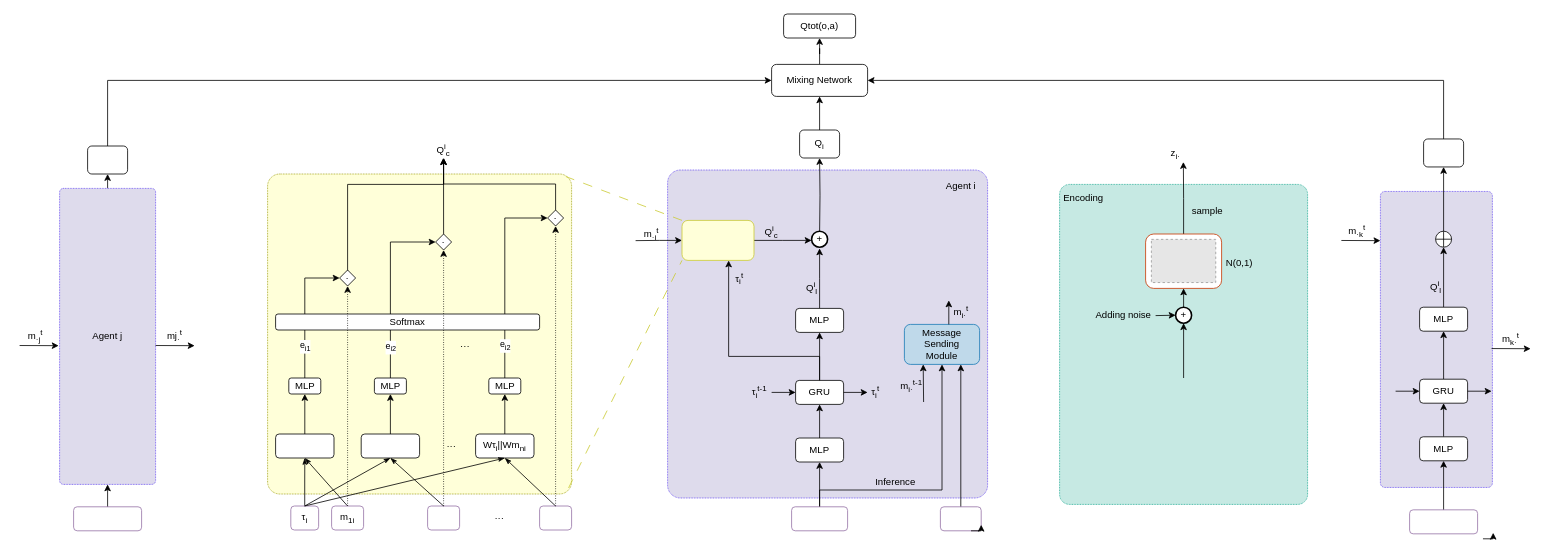
Image size: 1551x559. Some labels were removed from this diagram. Grey dashed boxes stand in for pictures. Here are the shapes that lost their labels. From the top down, the centre of each, then its label:
At pixel 107 159: "Q j".
At pixel 1443 152: "Q k".
At pixel 717 240: "Message Receving Module".
At pixel 304 445: "Wτ i ||Wm 1i".
At pixel 390 445: "Wτ i ||Wm 2i".
At pixel 107 518: "oj t ,a j t-1 ,m ·j t-1".
At pixel 443 517: "m 2i".
At pixel 555 517: "m ni".
At pixel 819 518: "o i t ,a i t-1 ,m ·i t-1".
At pixel 960 518: "z ·i".
At pixel 1443 521: "o k t ,a k t-1 ,m ·k t-1".
